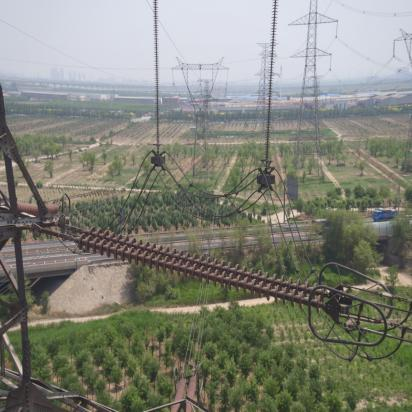insulator: (70, 225, 331, 315)
